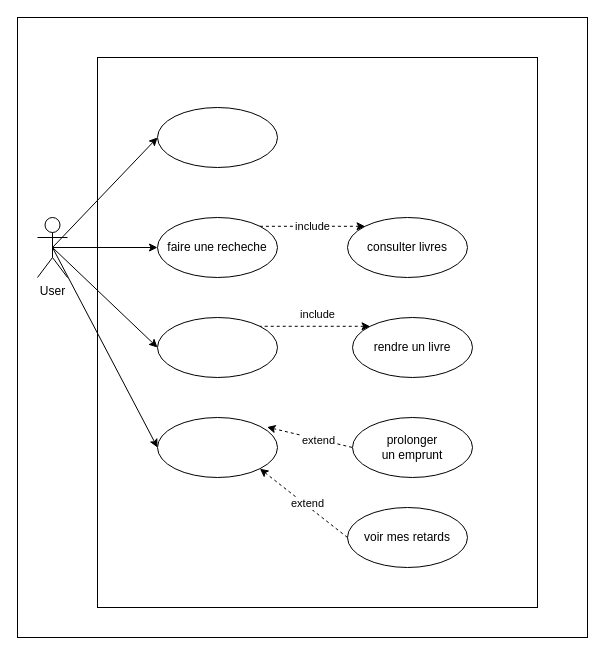
The diagram is 605 pixels wide and 655 high, and some of its shapes have lost their labels. The centre of each missing label's shape, as x and y in pixels:
"consulter mes emprunts" goes at (x=217, y=447).
"emprunter un livre" goes at (x=217, y=347).
"se connecter" goes at (x=217, y=137).
